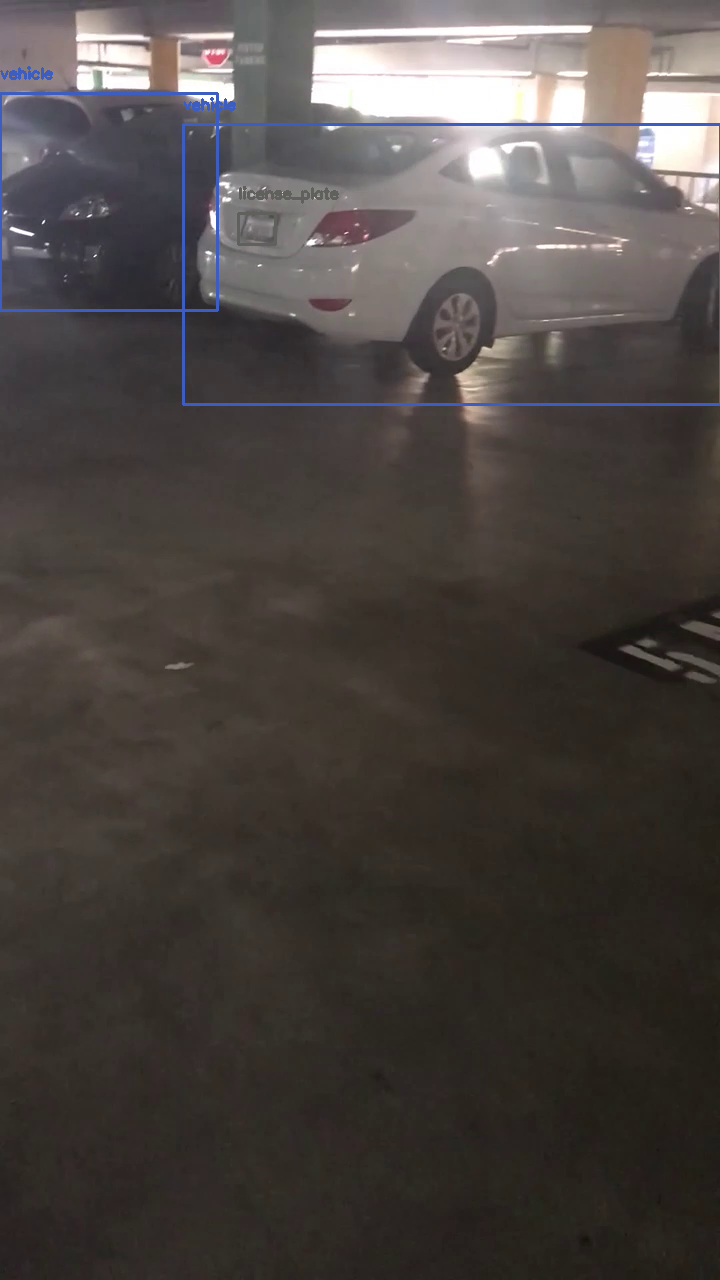license_plate: (238, 213, 275, 244)
vehicle: (183, 124, 720, 404), (0, 93, 217, 310)
